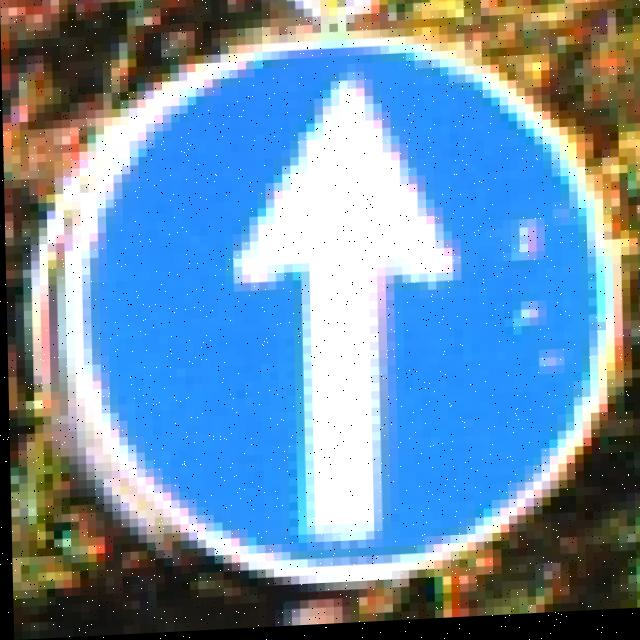compulsory_ahead: (45, 39, 628, 595)
